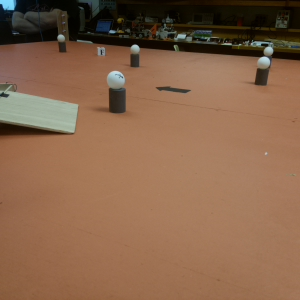obstacle: (108, 70, 129, 113), (254, 57, 271, 90), (130, 44, 142, 67), (56, 35, 68, 54), (264, 47, 274, 63)
slope: (1, 88, 79, 138)
